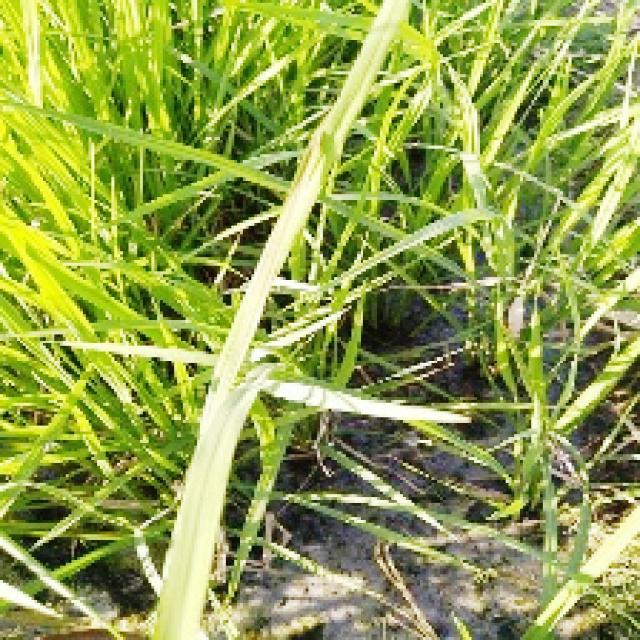-: (0, 0, 177, 411)
